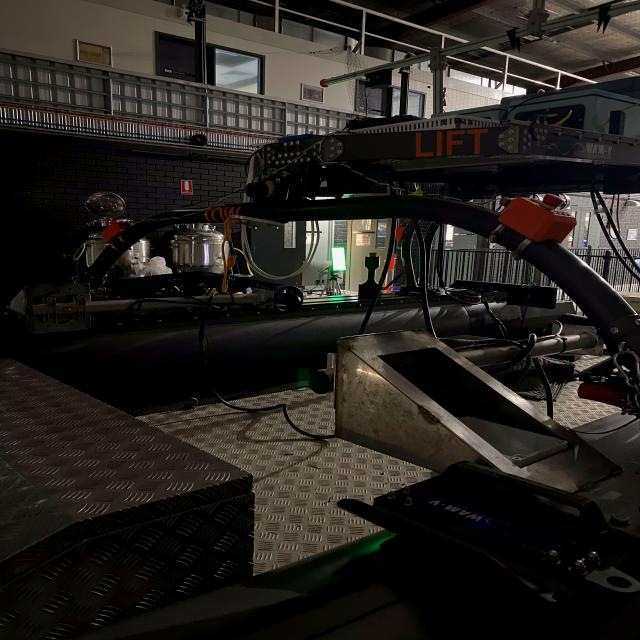matrix: (326, 243, 350, 276)
